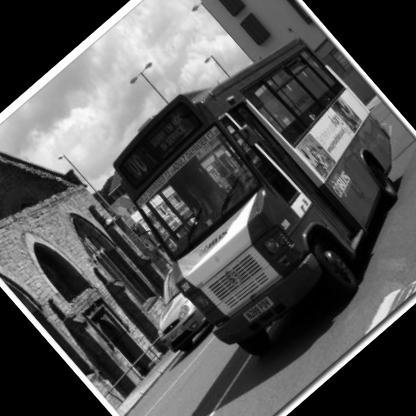bus: (52, 1, 416, 403)
car: (122, 267, 216, 362)
